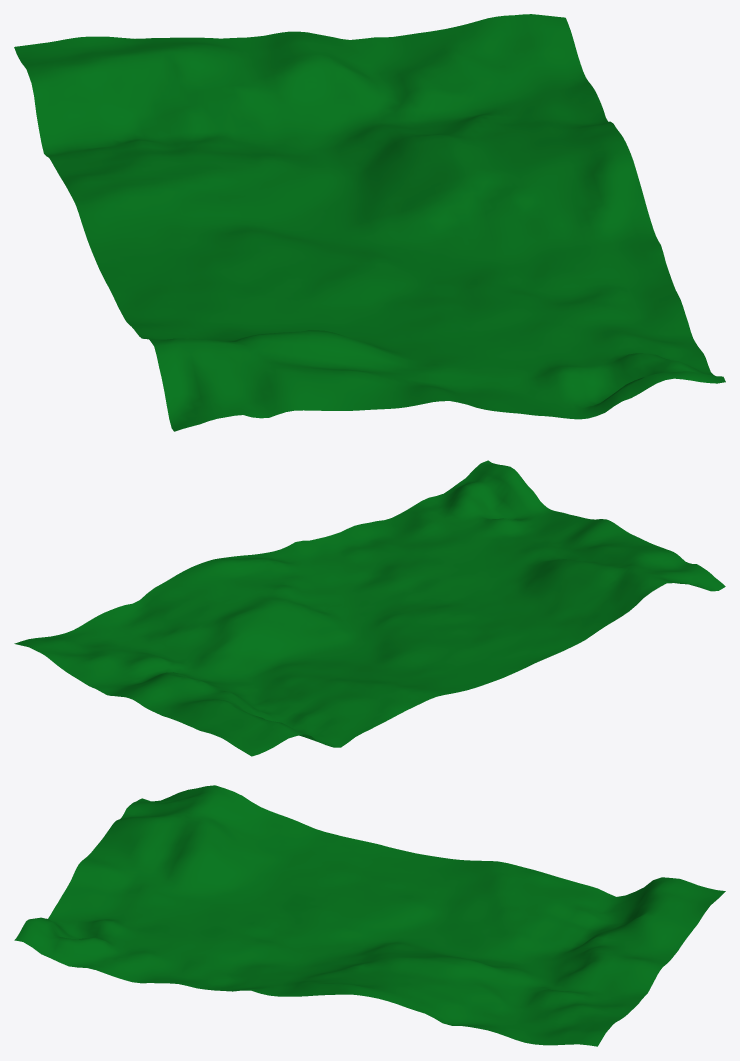
Rendered from mapa.glb.
The picture shows the model from 3 angles, top to bottom: view 1: azimuth 30°, elevation 25°; view 2: azimuth 150°, elevation 25°; view 3: azimuth 270°, elevation 25°; orthographic projection. The views are drawn at different scales.
Visible parts, largest first — view 1: Mapa; view 2: Mapa; view 3: Mapa.
Boxes of the visible parts, x1,y1,x2,y2 form: Mapa: (14, 14, 725, 431); Mapa: (14, 460, 725, 756); Mapa: (14, 785, 725, 1046).
Size of the model in its own units: 3344 by 327 by 4222.
